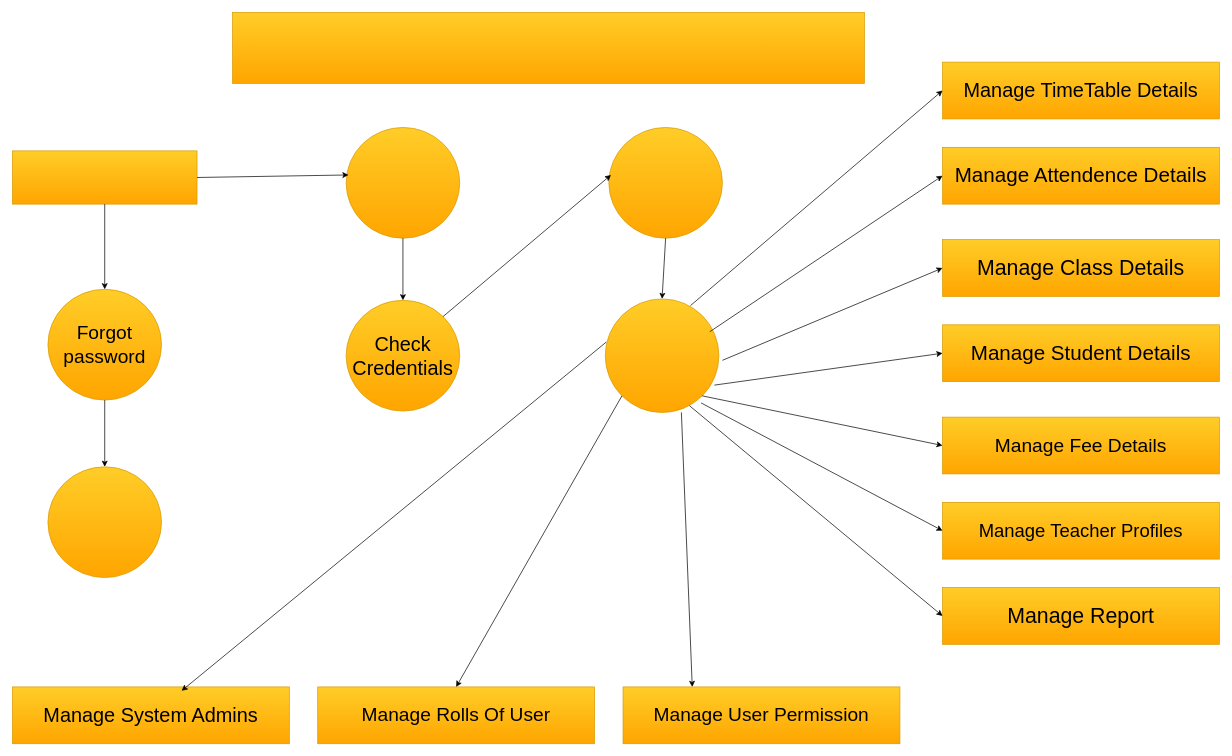
This 1232x756 diagram has some shape labels left out. Here are the shapes that lost their labels. From the top down, the box of each, then its label:
(232, 12, 864, 83): student information system
(12, 150, 197, 204): Admin
(345, 127, 460, 238): Login to System
(608, 127, 722, 238): Check Rolls Of Access
(605, 298, 719, 413): Manage Modules
(47, 466, 162, 578): Send Email To User
